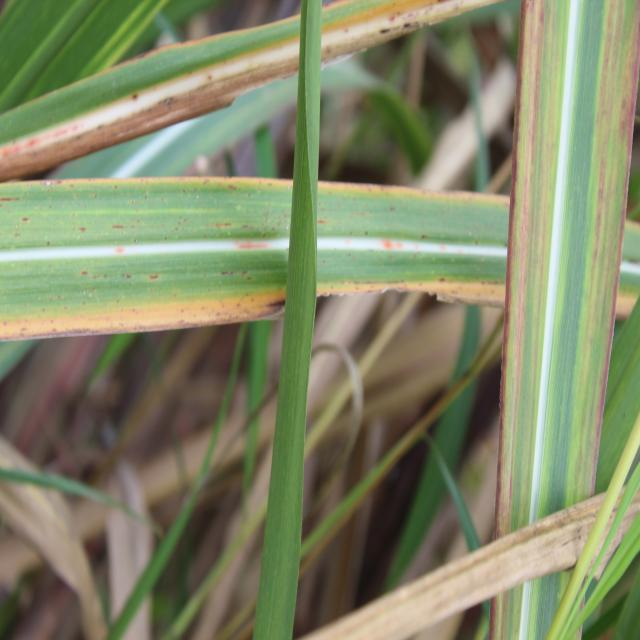Sugarcane: (493, 0, 640, 640), (0, 179, 509, 335), (247, 0, 323, 640)
